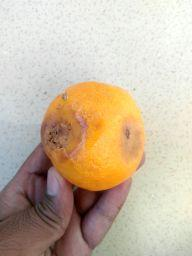Unripe: (42, 82, 143, 186)
